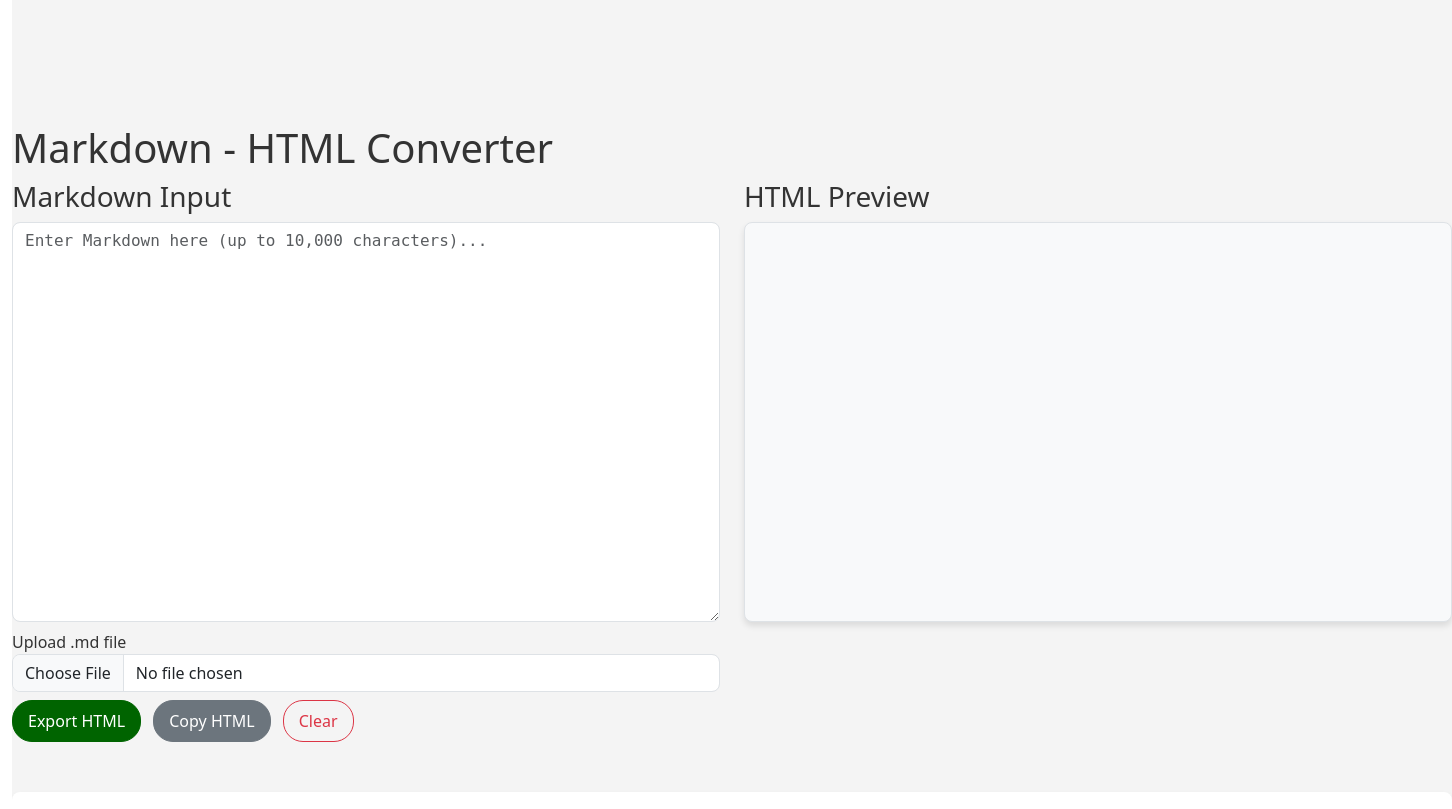
Test: Page Component › clears input and preview on clear button click (FR7)
Step 1. Type "Test" into the text box with placeholder "Enter Markdown here (up to 10,000 characters)..." → (366, 422), box [12,222,720,622]
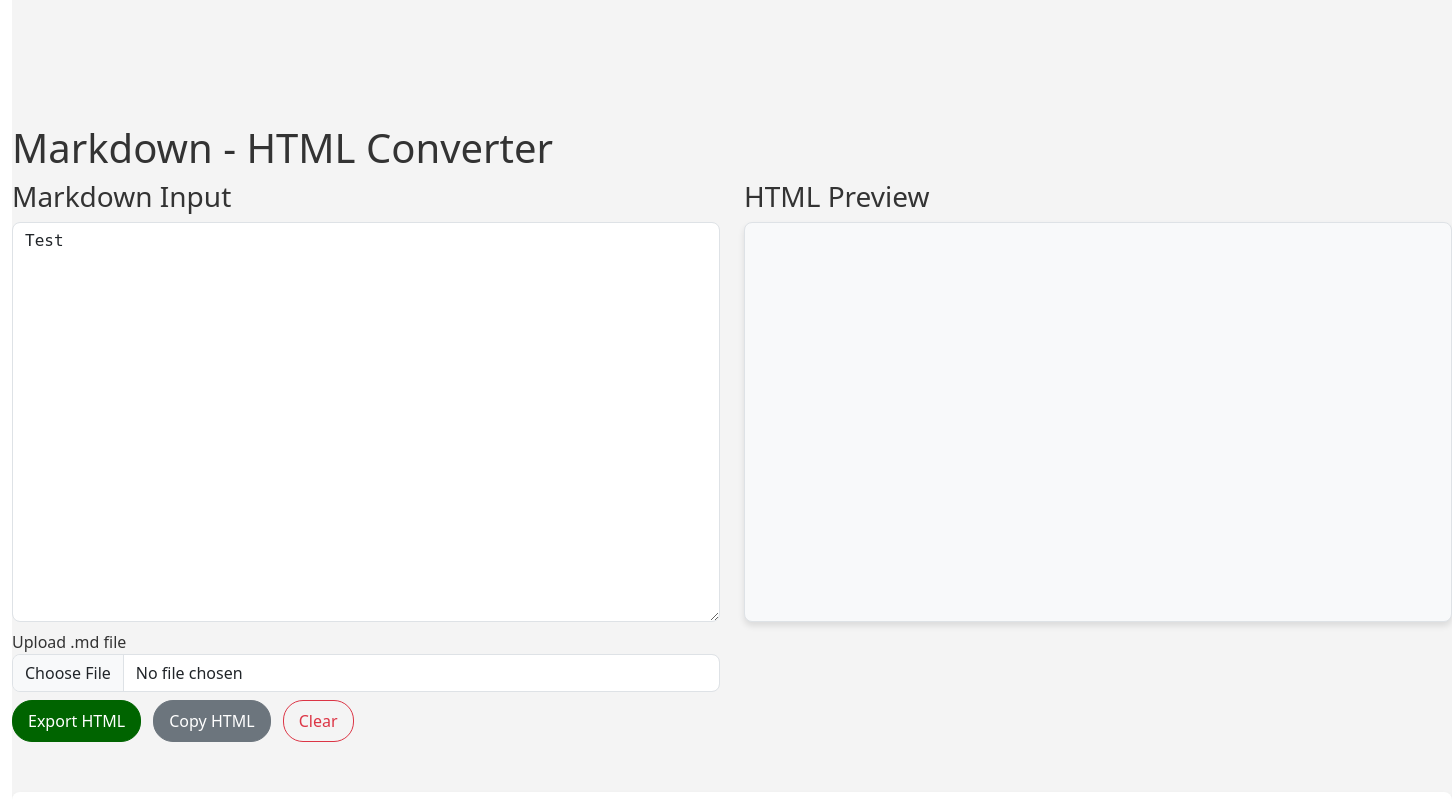
Step 2. Click the button "Clear" → click(318, 721), box [283,700,354,742]
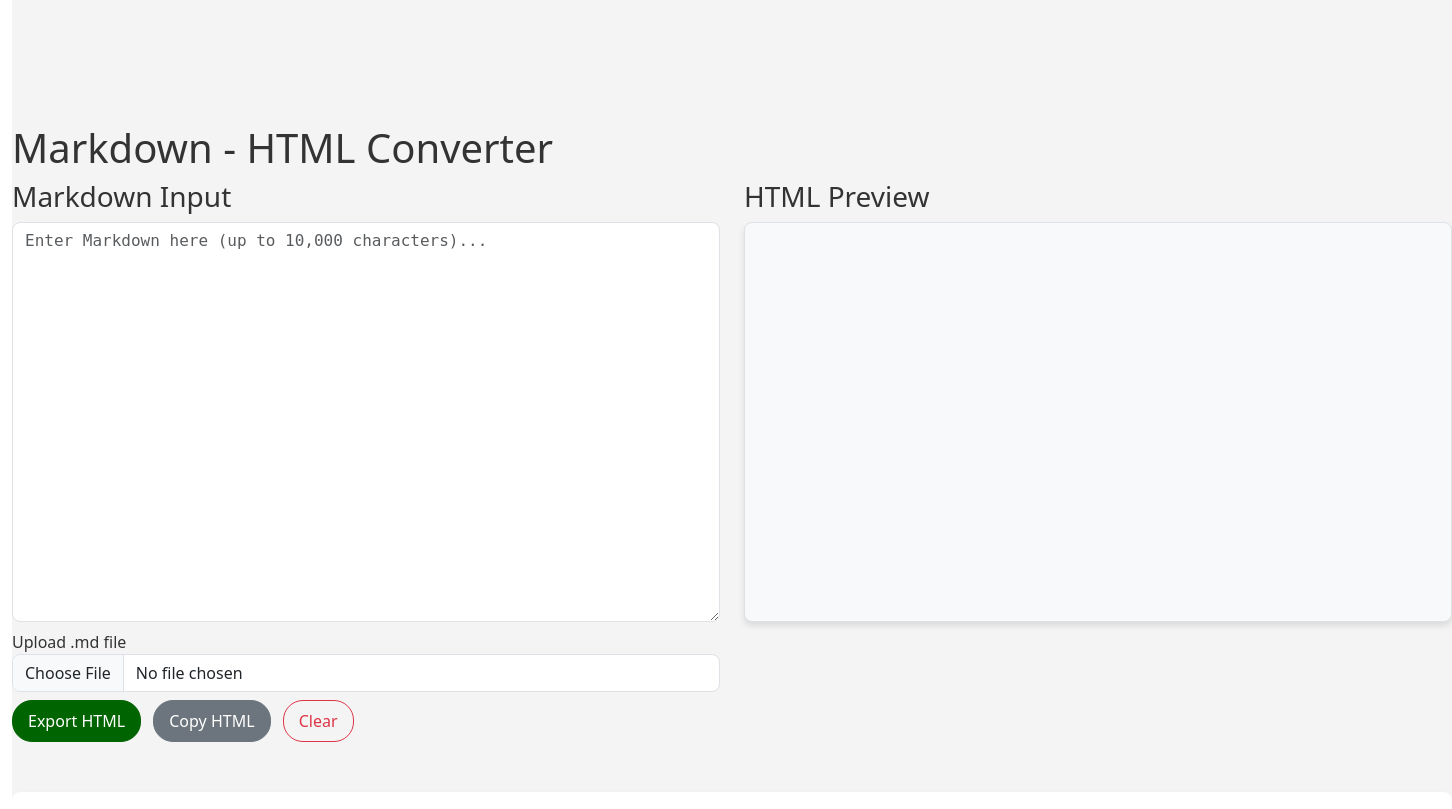
Now the text box with placeholder "Enter Markdown here (up to 10,000 characters)..." is empty, box [12,222,720,622]
